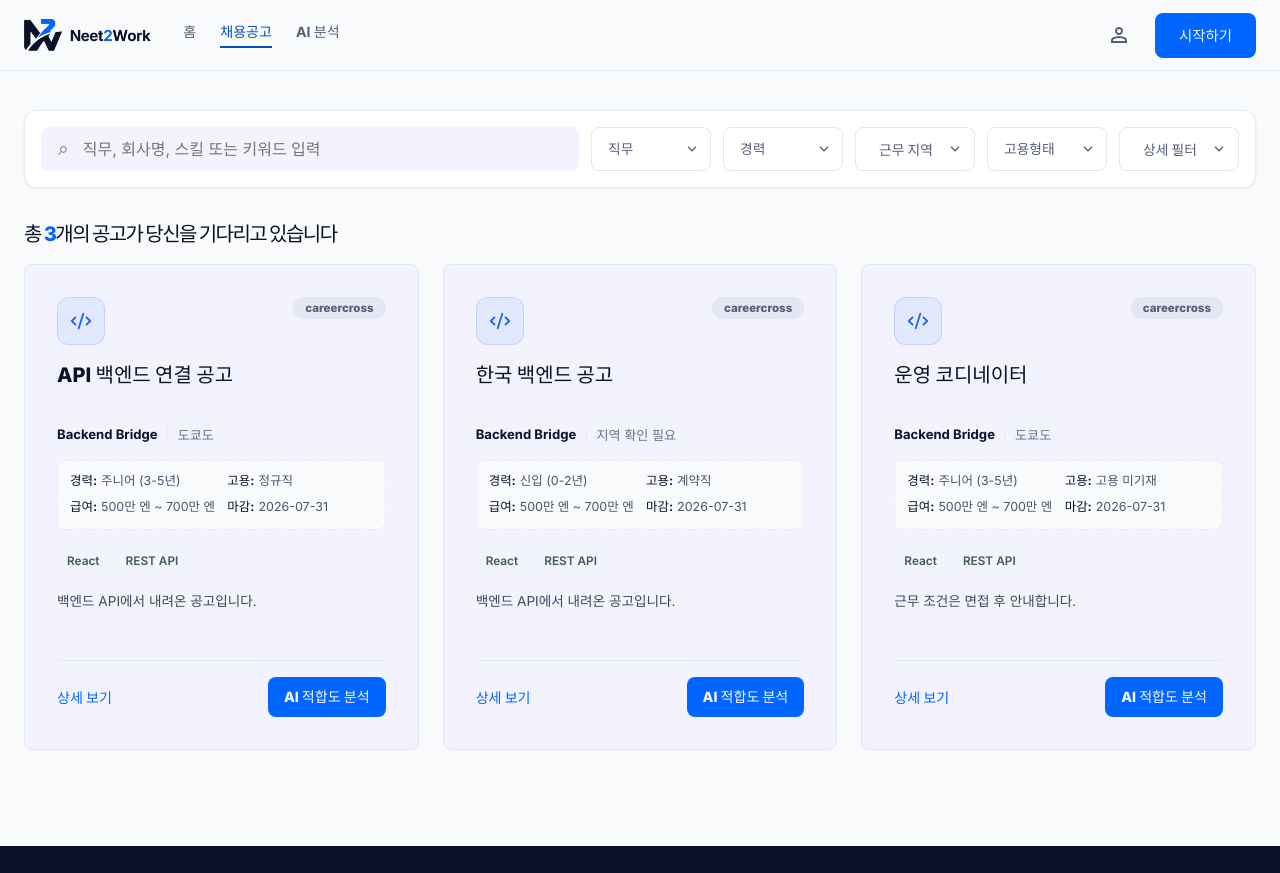
Test: Jobs page backend integration › loads the selected job detail from the backend before opening the drawer
Click the button "상세 보기" below "정규직".
click(84, 697)  # box [57, 679, 112, 715]
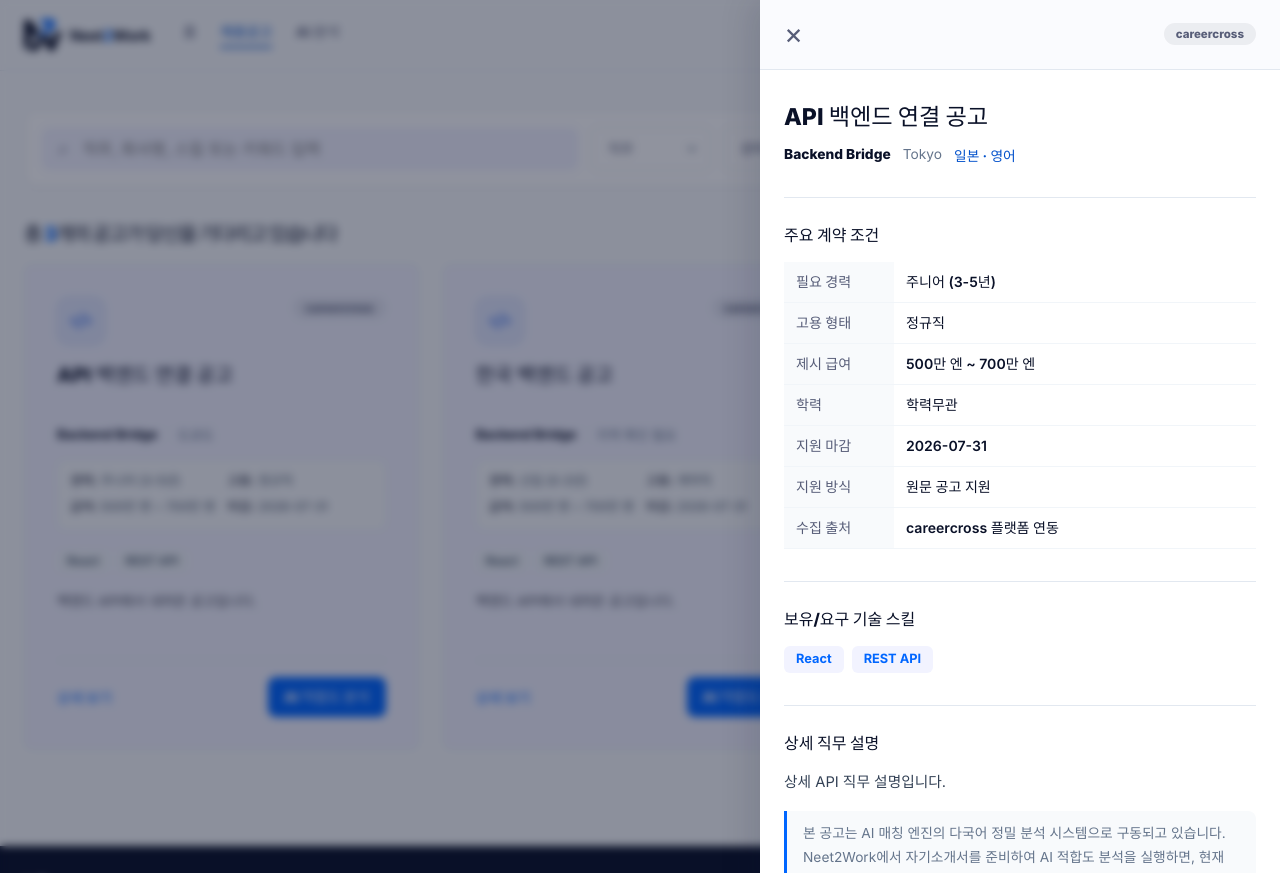
Result: the text "상세 API 직무 설명입니다." is shown at [784, 773, 946, 791]
